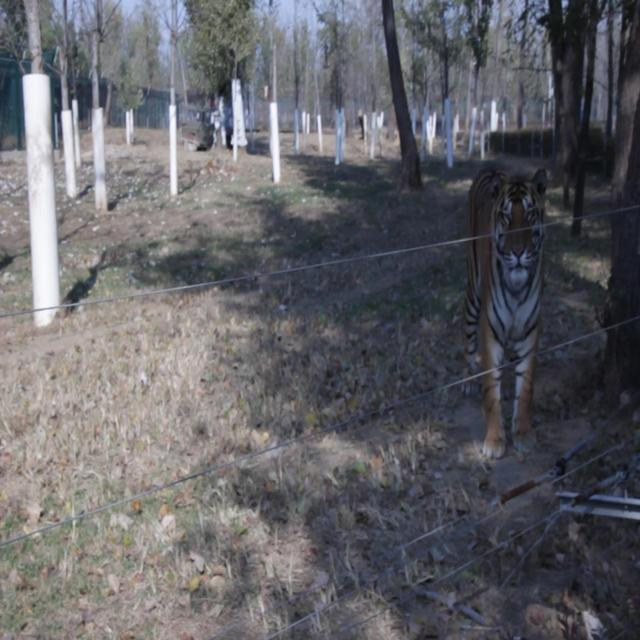tiger: (459, 164, 550, 460)
